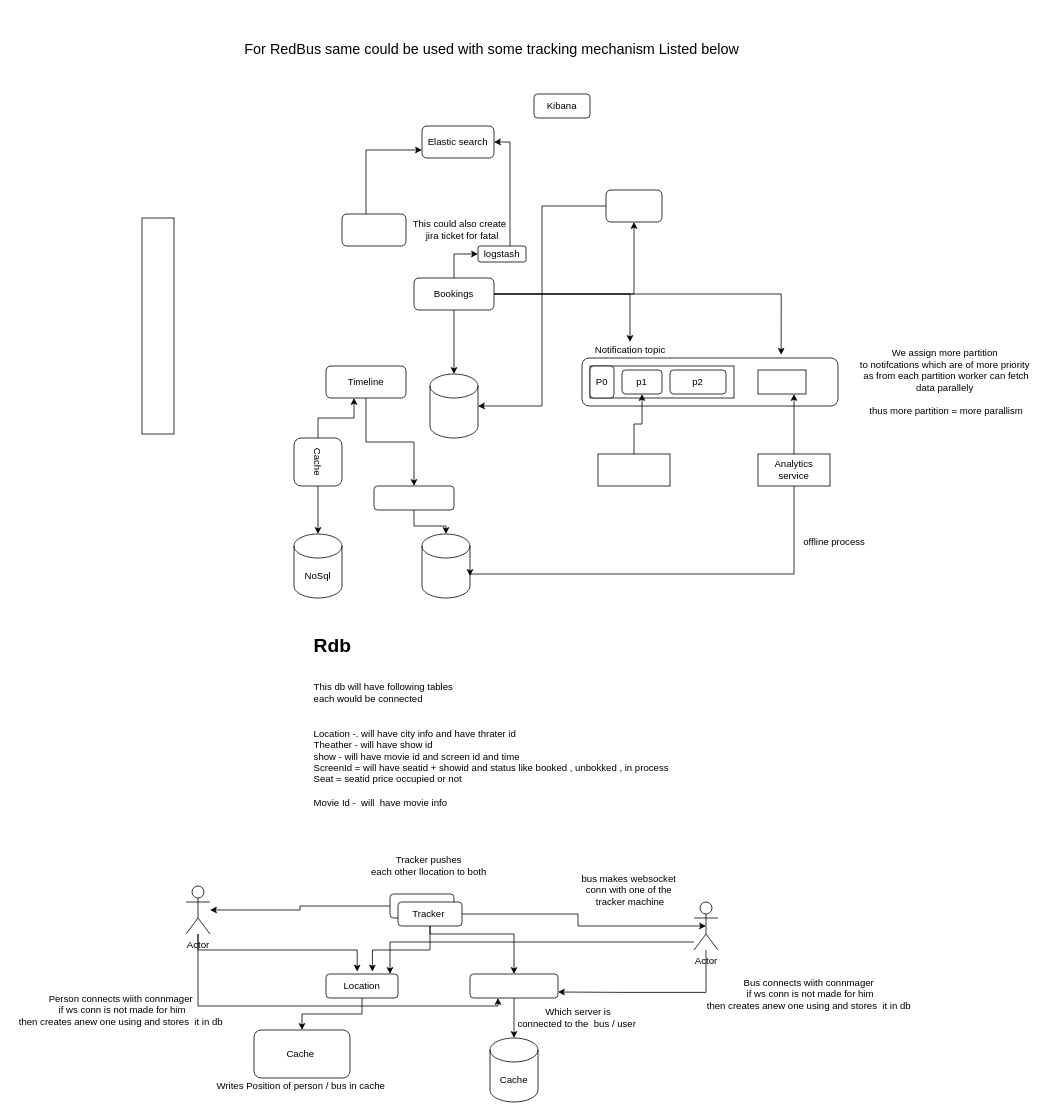
Some shapes in this 1051 by 1116 pixel diagram are drawn without their labels. The shapes that lost their labels are listed below. From the top down, each one's box as (x1, y1, x2, y2) in pixels, then its label:
(605, 189, 662, 222): Payment
(341, 213, 406, 246): Search
(141, 217, 174, 434): API Gateway
(757, 369, 806, 394): Analytics
(429, 373, 478, 438): RDB
(597, 453, 670, 486): notification service
(373, 485, 454, 510): Recommendation
(421, 533, 470, 598): Pref Db
(469, 973, 558, 998): Connection manager
